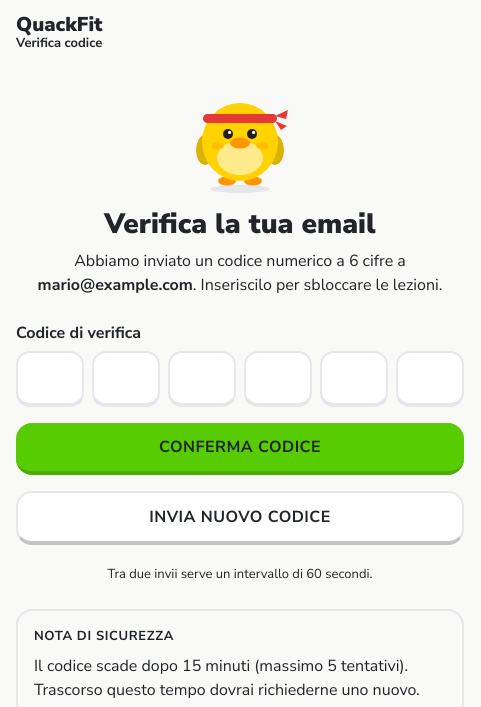
Test: verifica email › un nuovo codice toglie l'errore del codice precedente
Expected: the heading "Verifica la tua email" is shown, [104,205,376,243]
Step 1. Click the field named "Cifra 1 di 6" → (50, 379), box [16,351,84,407]
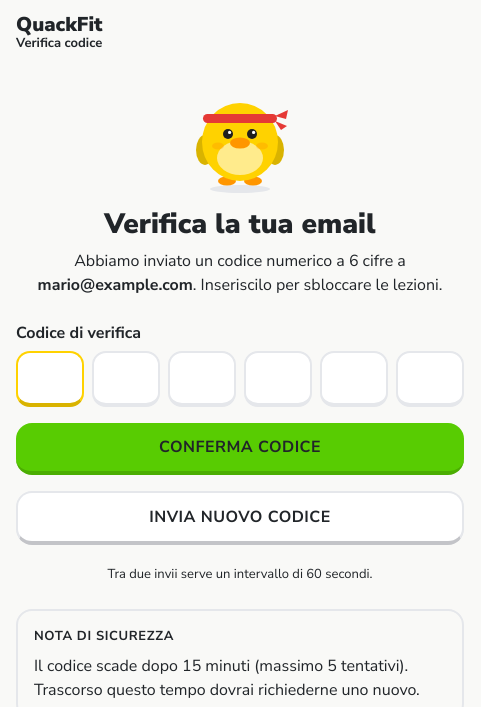
Step 2. Type keys "000000"
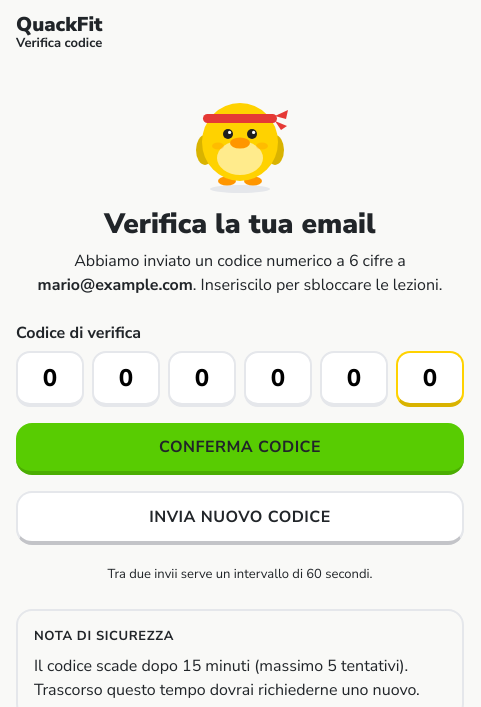
Step 3. Click the button "Conferma codice" → (240, 449), box [16,423,464,475]
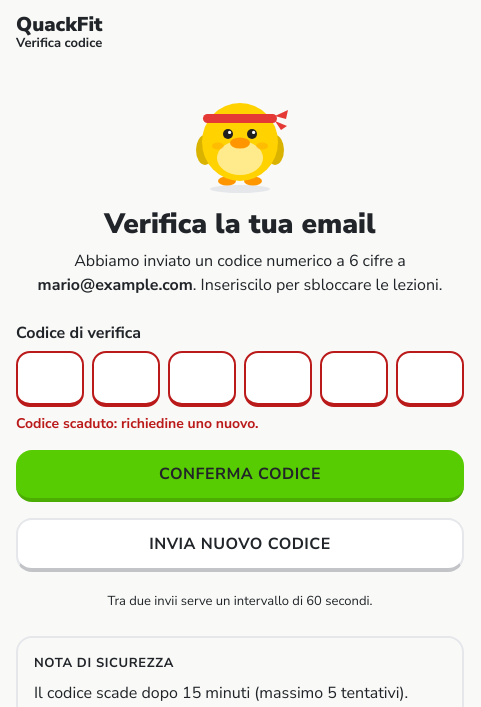
Result: the text "Codice scaduto: richiedine uno nuovo." is shown at [16,414,258,433]
Step 4. Click the button "Invia nuovo codice" → (240, 545), box [16,518,464,572]
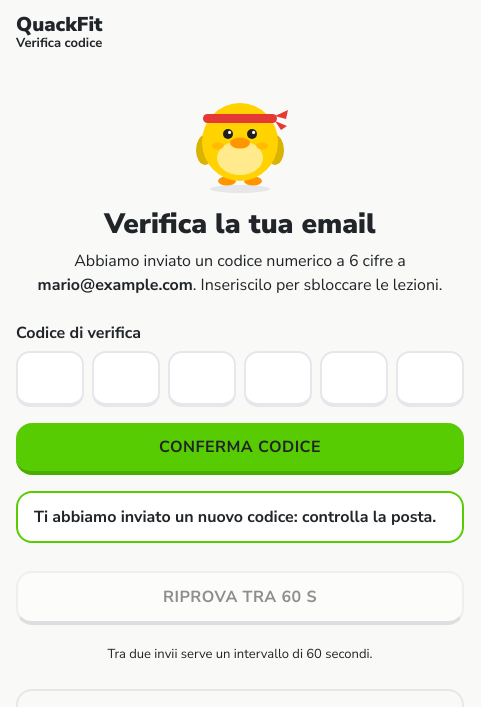
Result: the message "Ti abbiamo inviato un nuovo codice: controlla la posta." is shown at [16,491,464,543]
Result: the text "Codice scaduto: richiedine uno nuovo." is gone
